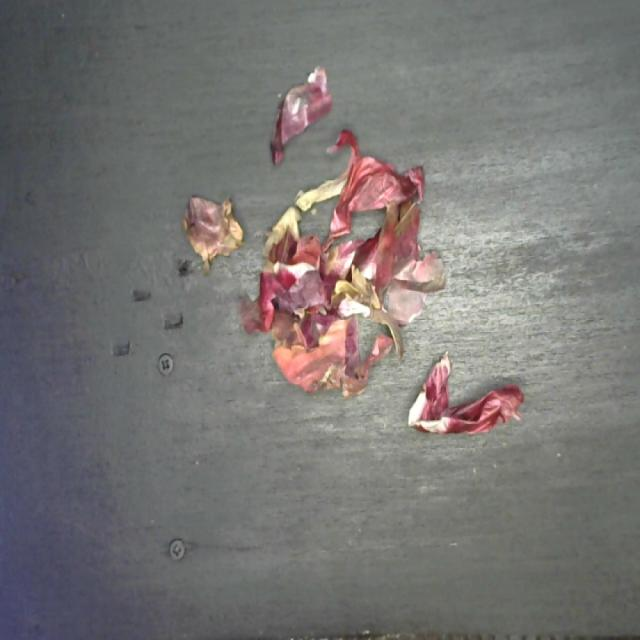biodegradable: (180, 59, 524, 444)
